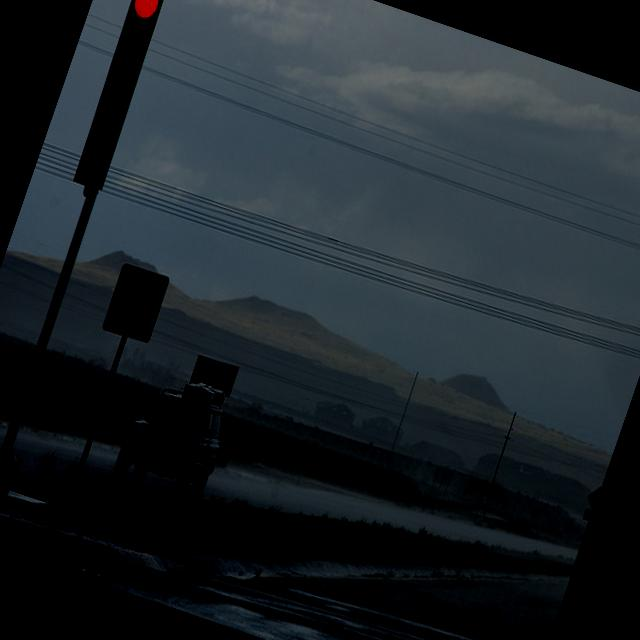Vehicle: (110, 360, 241, 507)
